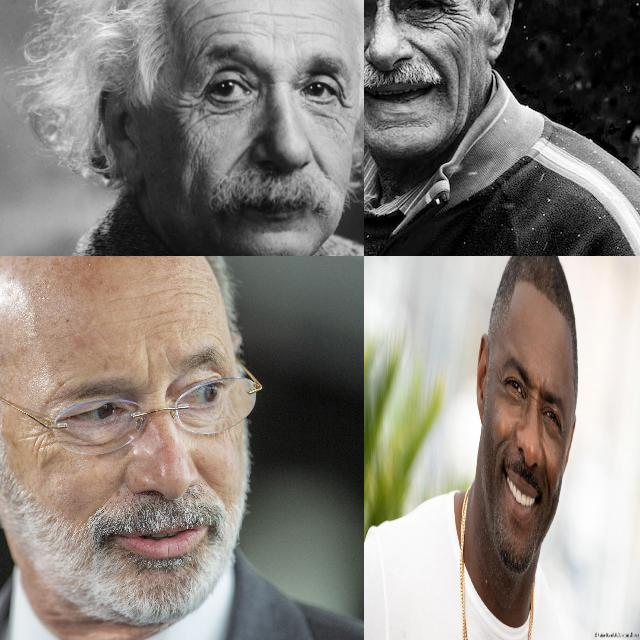chin: (379, 116, 426, 130)
crows_feet: (179, 92, 207, 122), (31, 426, 55, 458), (444, 0, 468, 26), (335, 91, 355, 121), (496, 368, 504, 390), (558, 424, 566, 443)
forehead: (188, 0, 222, 30), (201, 26, 253, 44), (253, 5, 297, 23), (300, 23, 336, 44), (264, 26, 288, 56), (174, 282, 206, 304), (134, 283, 172, 301), (310, 8, 342, 26), (142, 309, 176, 323), (239, 0, 304, 5)
frown_line: (140, 352, 156, 381), (530, 389, 540, 410)
gummy_smile: (409, 40, 445, 66), (228, 136, 252, 174), (308, 141, 329, 175)
masseter: (452, 62, 466, 116)
